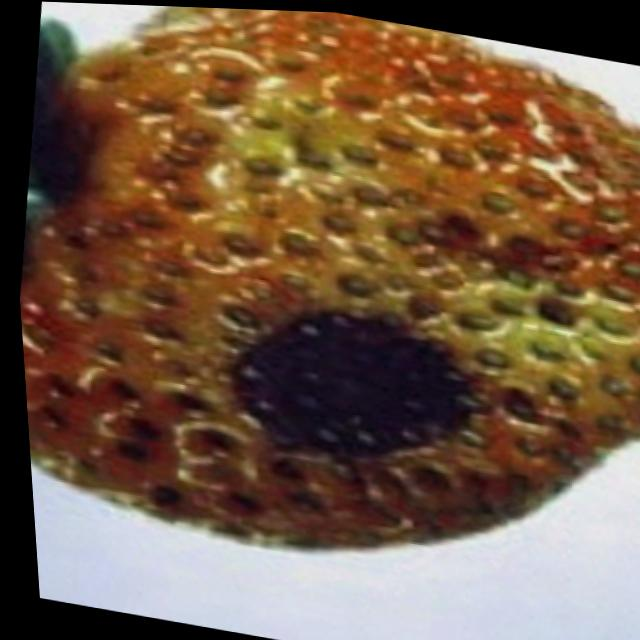Anthracnose Fruit Rot: (220, 295, 471, 465)
